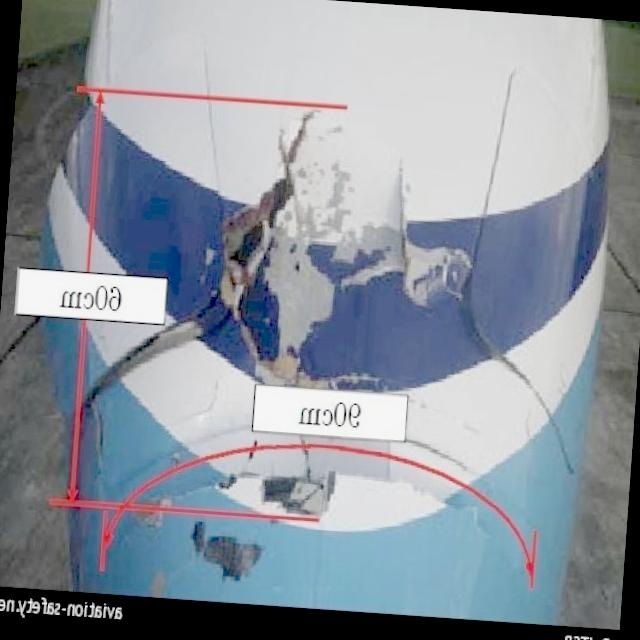crack: (83, 98, 320, 424), (444, 57, 600, 472), (377, 164, 435, 302)
